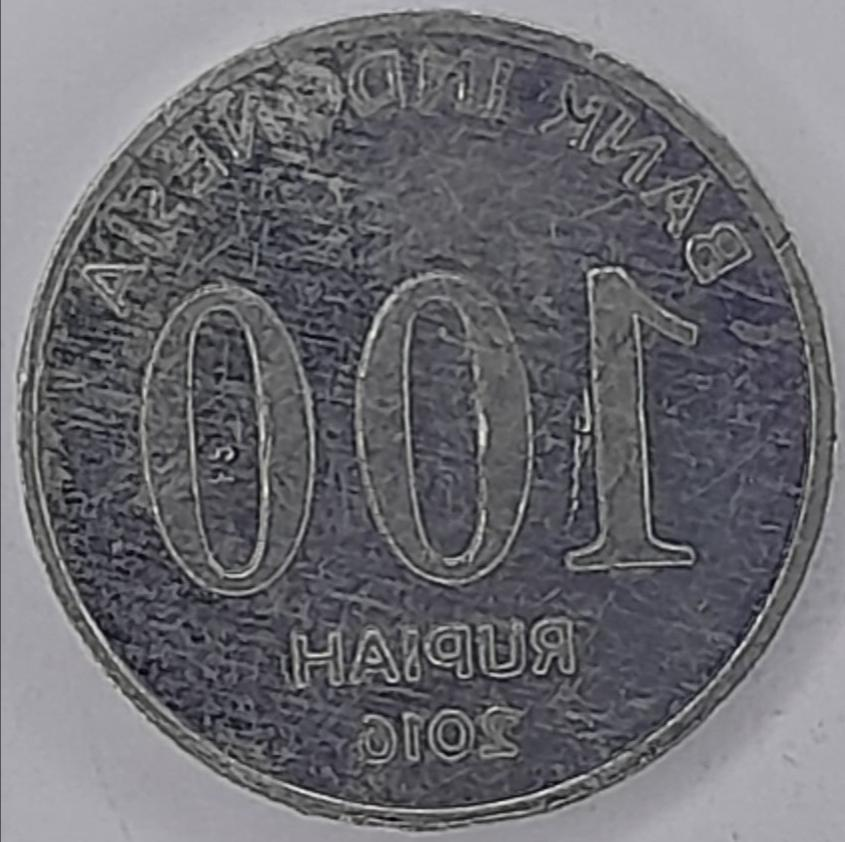coin_100_e2016: (11, 3, 842, 832)
